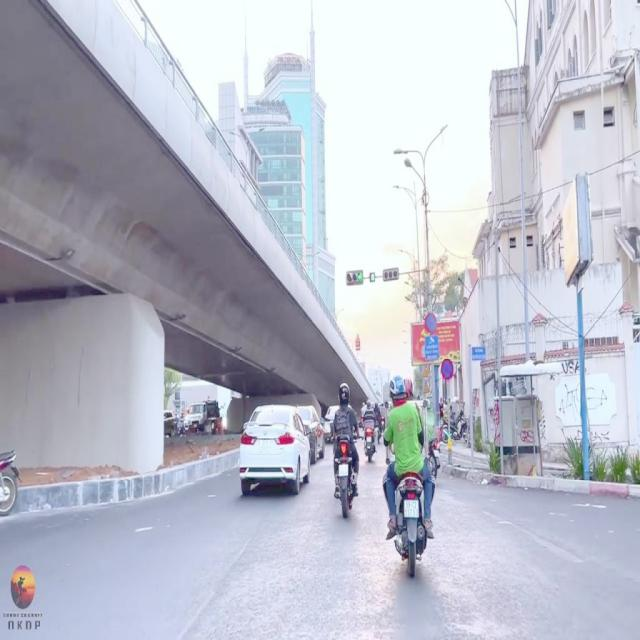cam_dung_xe_va_do_xe: (441, 359, 454, 382), (425, 313, 437, 334)
di_cham: (423, 381, 431, 394)
giao_nhau_voi_duong_khong_uu_tien: (423, 366, 431, 377)
